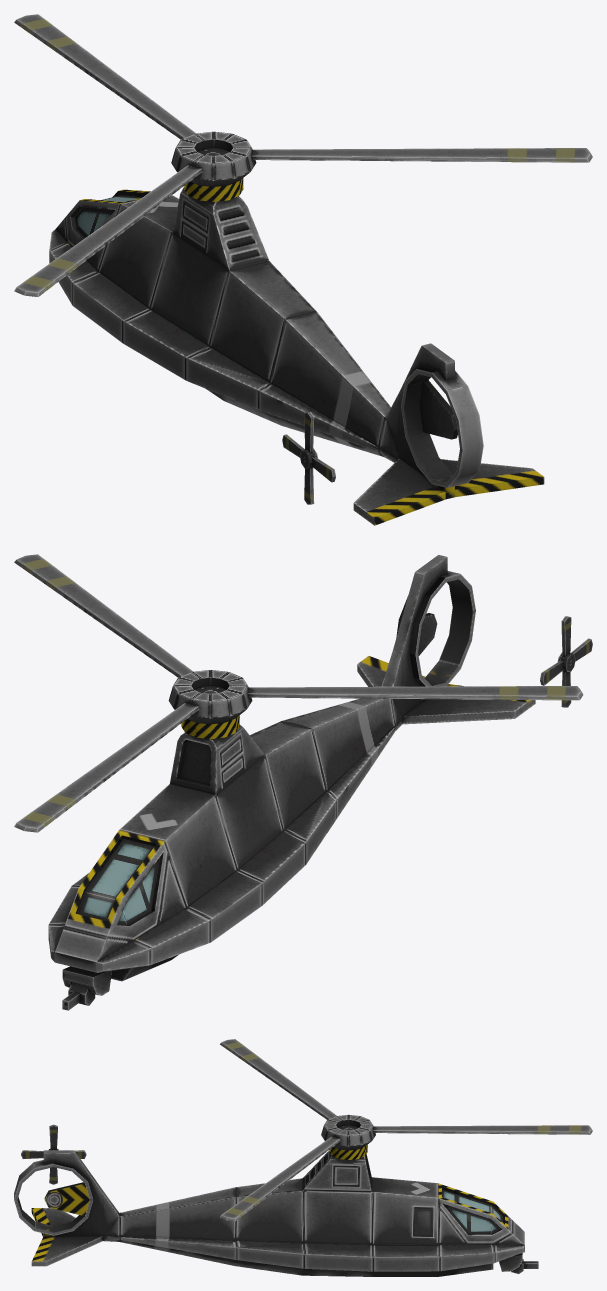
Rendered from Ferret expl.FBX.
3 renders of one model, top to bottom at view 1: azimuth 30°, elevation 25°; view 2: azimuth 150°, elevation 25°; view 3: azimuth 270°, elevation 25°, orthographic. The views are drawn at different scales.
Parts seen in each view (by area): view 1: body, blades, rotory1, rotorx1; view 2: body, blades, rotory1, rotorx1, turret_1, mantlet_1; view 3: body, blades, rotory1, rotorx1.
Boxes of the visible parts, left/top/right/bottom form: body: left=49, top=187, right=544, bottom=525; blades: left=14, top=14, right=592, bottom=296; rotory1: left=171, top=131, right=256, bottom=201; rotorx1: left=282, top=412, right=335, bottom=504; body: left=48, top=555, right=535, bottom=981; blades: left=14, top=554, right=583, bottom=832; rotory1: left=168, top=670, right=252, bottom=739; rotorx1: left=540, top=616, right=592, bottom=707; turret_1: left=62, top=966, right=111, bottom=995; mantlet_1: left=62, top=982, right=95, bottom=1010; body: left=14, top=1150, right=524, bottom=1276; blades: left=220, top=1039, right=592, bottom=1221; rotory1: left=321, top=1114, right=375, bottom=1159; rotorx1: left=21, top=1124, right=86, bottom=1184.
Size of the model in its own units: 56.29 by 21.21 by 76.09.
